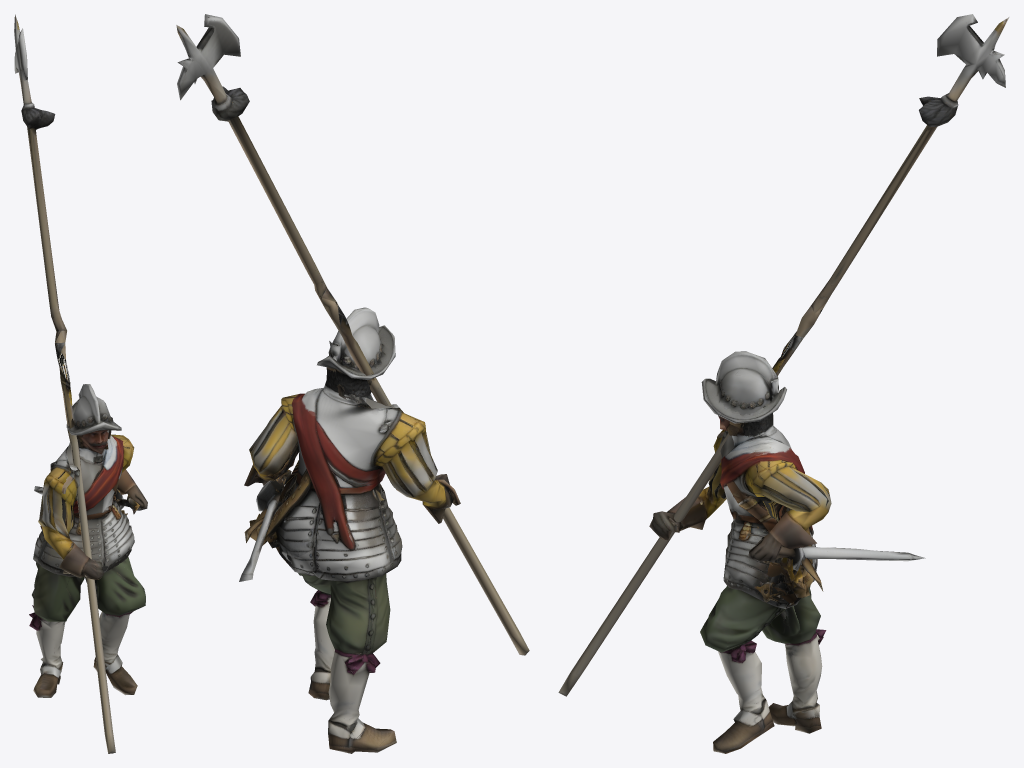
The model's file is PIKEMAN_Ger_Ret.glb.
3 views of the same model, side by side, from view 1: azimuth 30°, elevation 25°; view 2: azimuth 150°, elevation 25°; view 3: azimuth 270°, elevation 25° (orthographic). The views are drawn at different scales.
Parts seen in each view (by area): view 1: Mesh1.006; view 2: Mesh1.006; view 3: Mesh1.006.
Part boxes in pixels (x1,y1,x2,y2): Mesh1.006: (14,14,147,753); Mesh1.006: (176,14,529,753); Mesh1.006: (558,14,1009,753).
Bounding box in the file's own units: 0.7913 × 3.83 × 2.12.
Materials: 1 (1 with a texture image).
